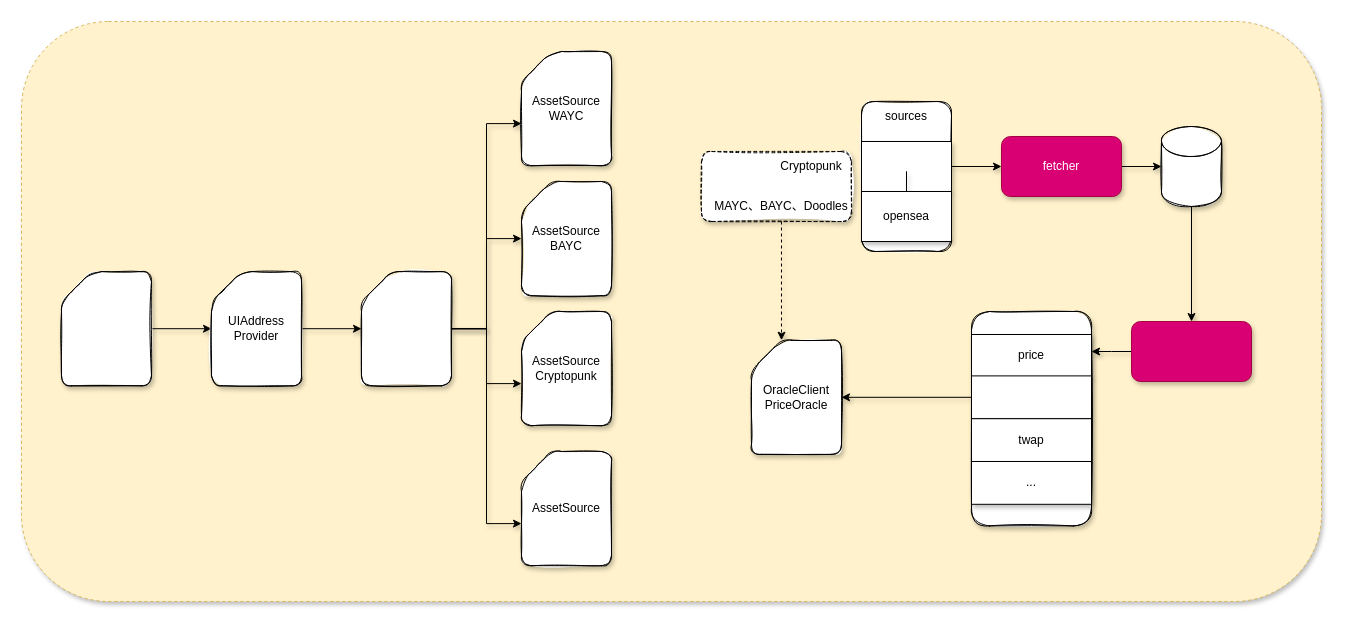
Some shapes in this 1345 by 626 pixel diagram are drawn without their labels. Each missing label, with the centre of its shape:
"ema" belongs at point (1032, 398).
"nftfloorprice" belongs at point (907, 167).
"OmniPrice Oracle" belongs at point (407, 330).
"postgres" belongs at point (1192, 168).
"processor" belongs at point (1192, 352).
"UIPoolData Provider" belongs at point (107, 330).
